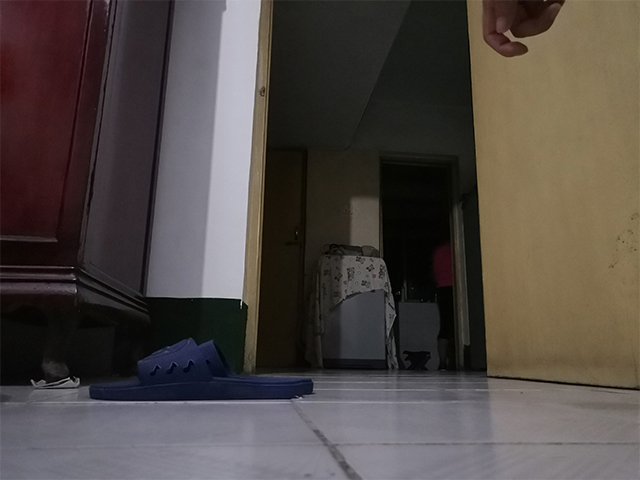cabinet: (1, 1, 180, 384)
slippers: (87, 335, 316, 402)
